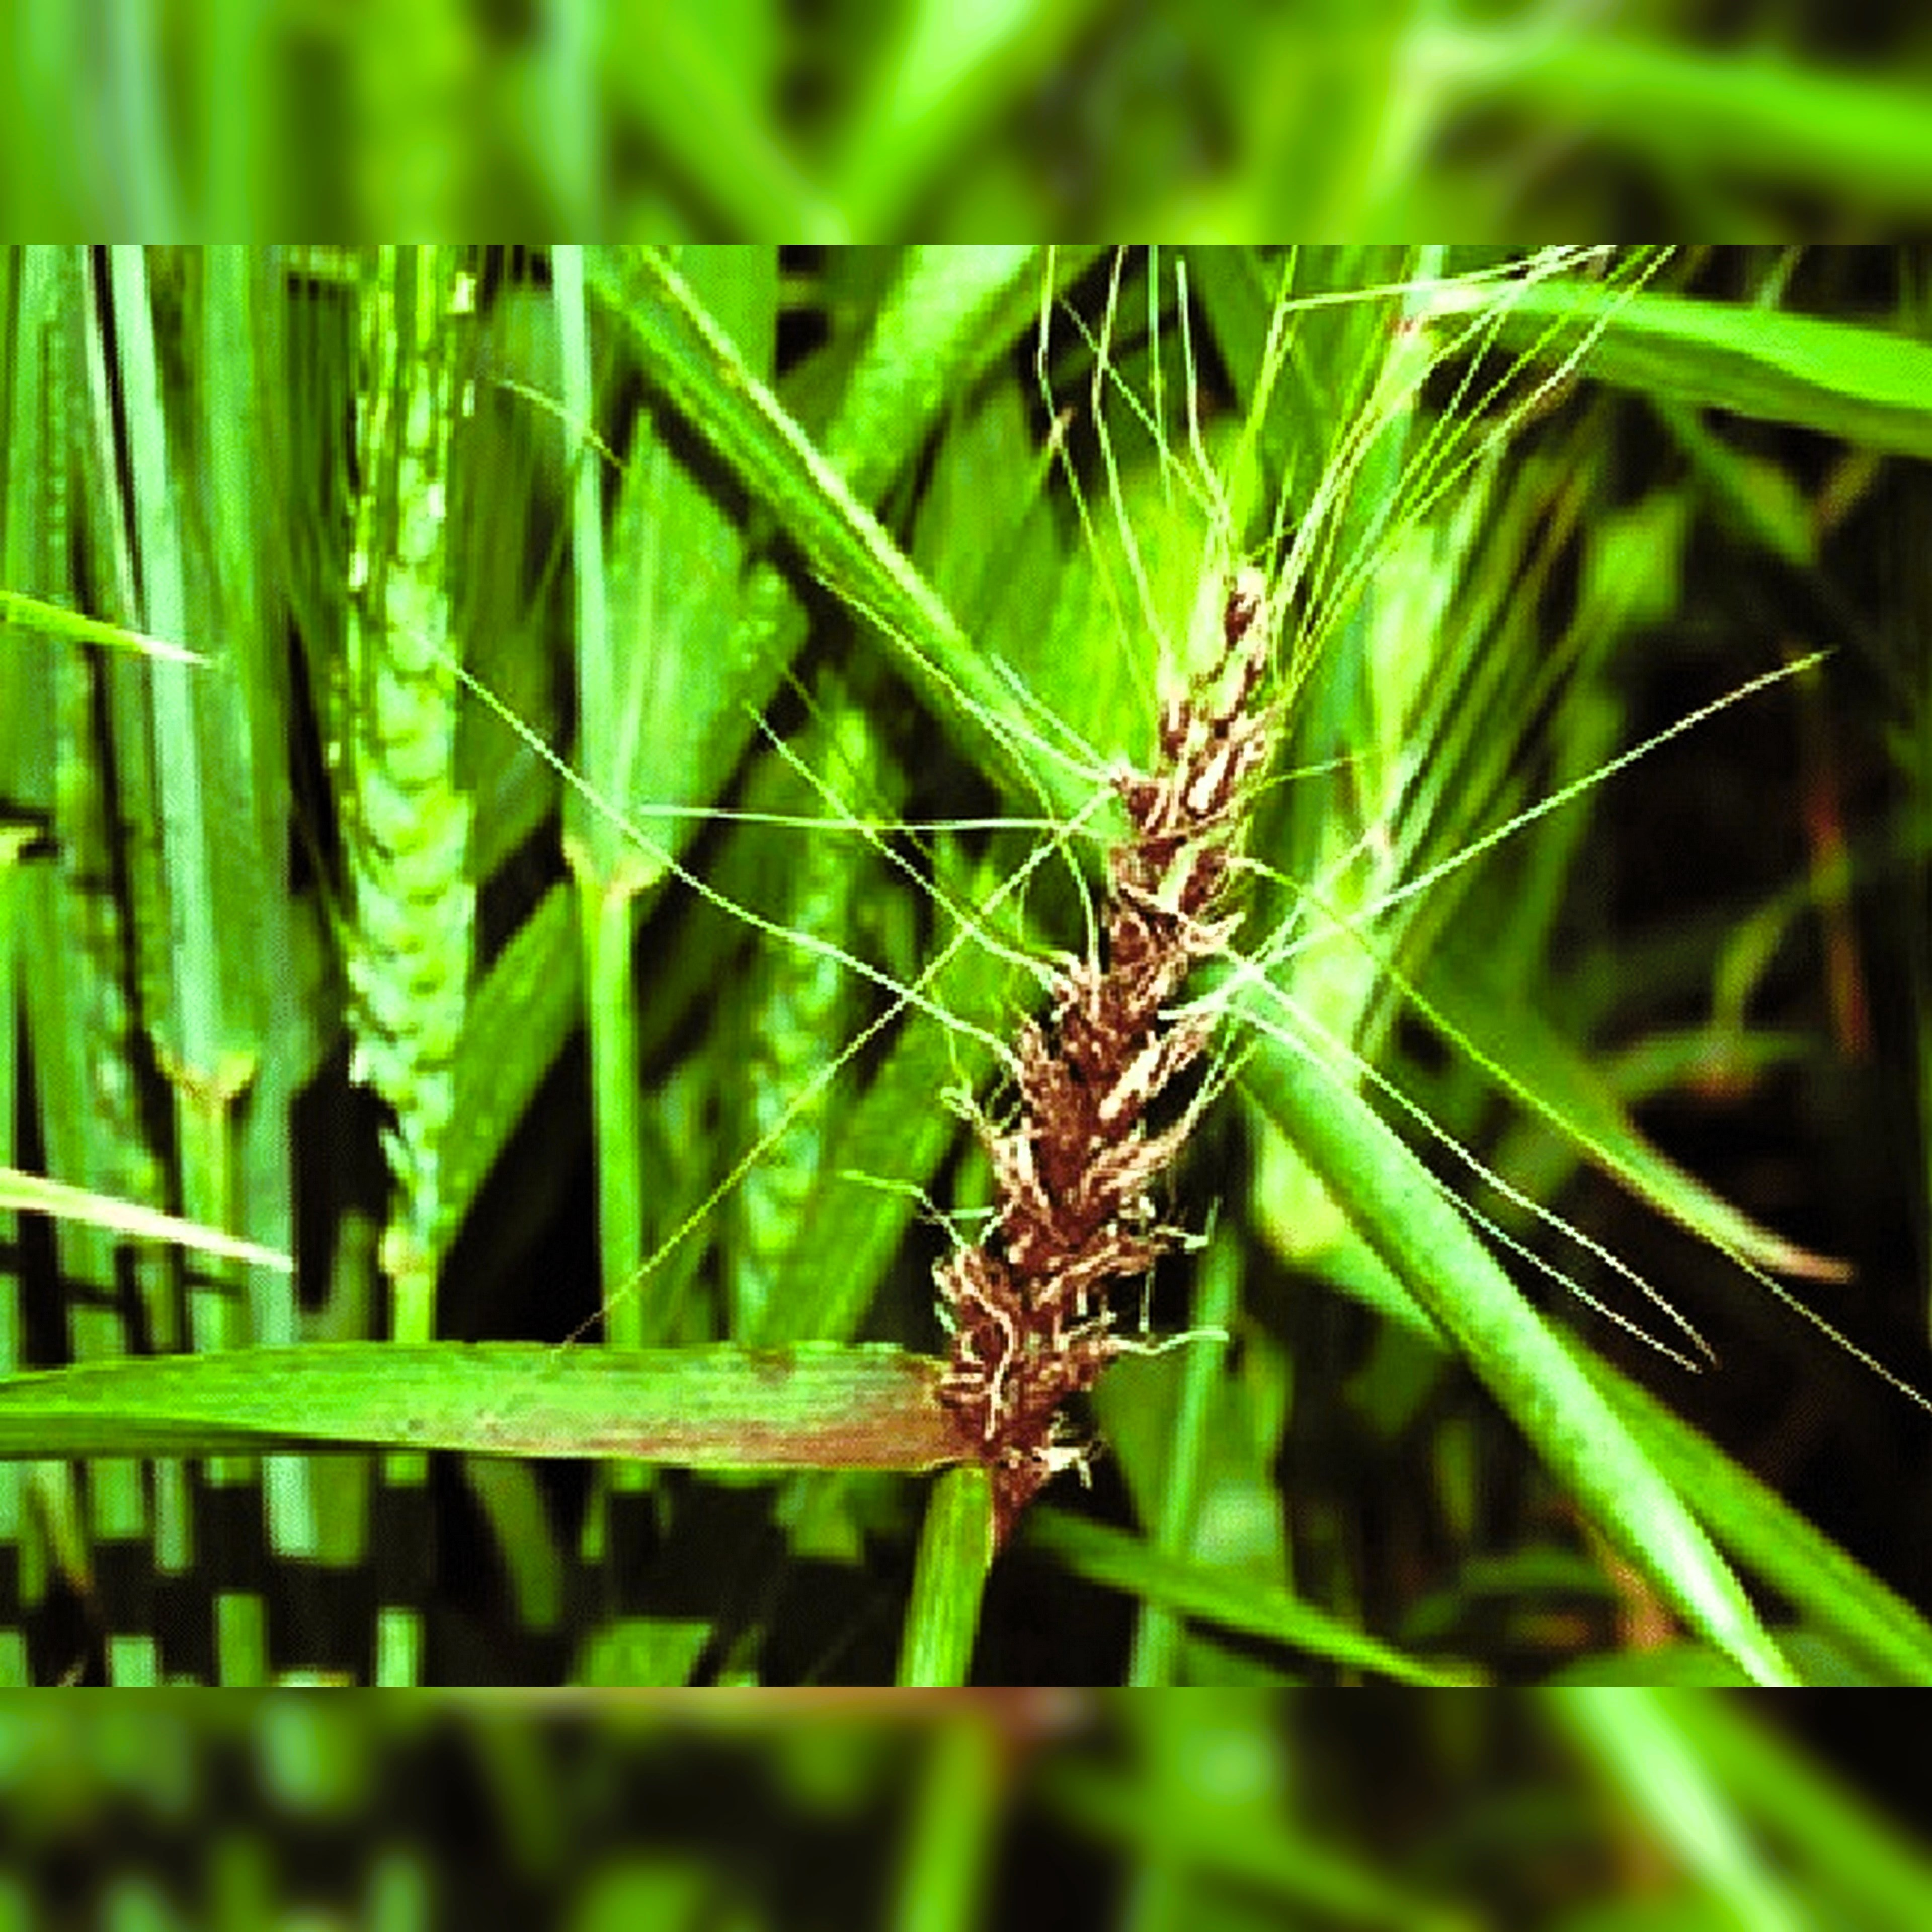Wheat Loose Smut: (925, 545, 1371, 1412)
